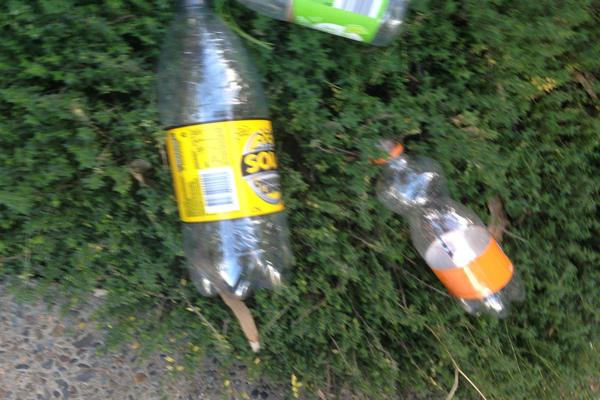Plastic Bottle: (165, 0, 296, 299), (369, 138, 524, 317), (231, 0, 406, 47)
